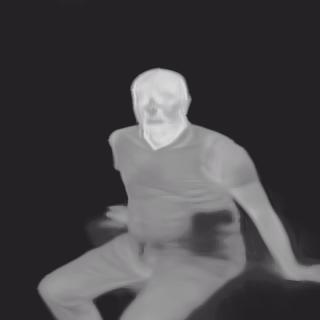Gun: (190, 210, 233, 256)
